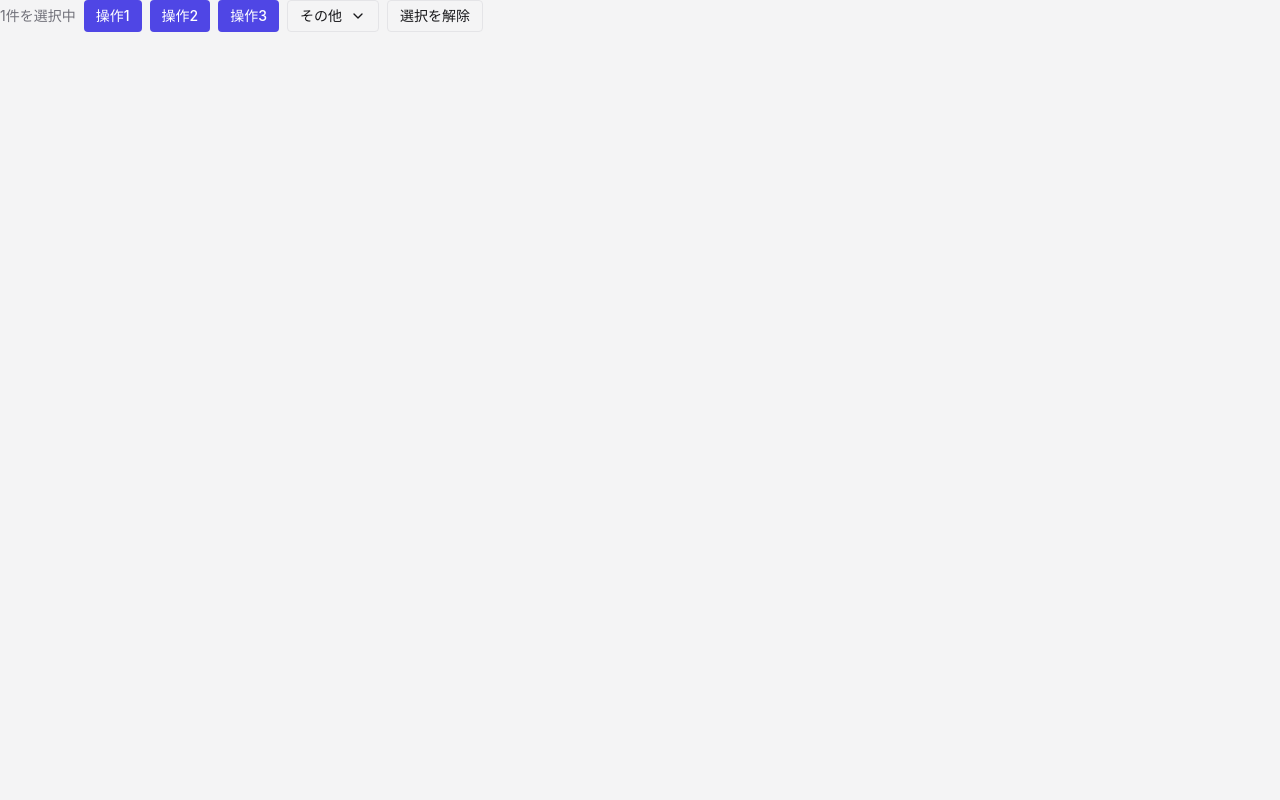
BulkActionBar › opens a controlled dialog from a menu action
This screenshot has width=1280, height=800.
Click the button "その他".
click(333, 16)  # box [287,0,379,32]
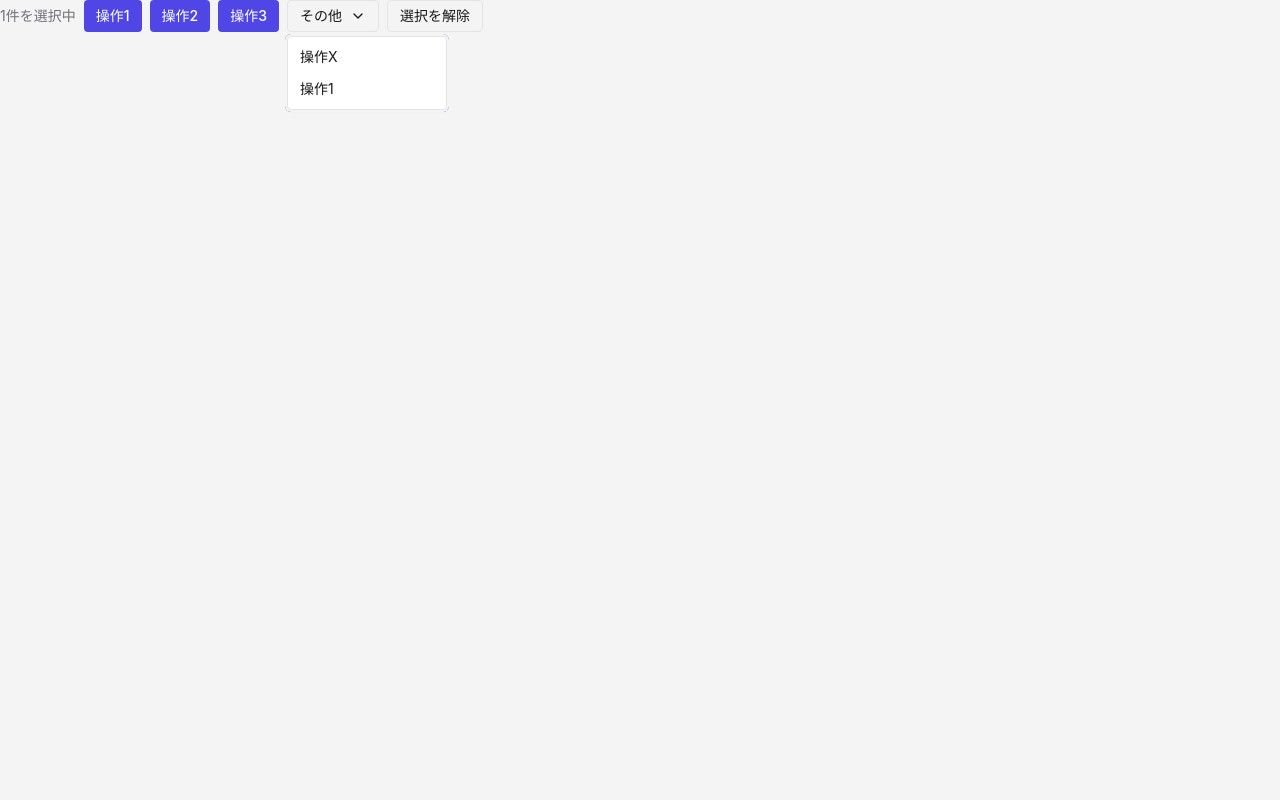
Click the menu item "操作X".
click(319, 56)  # box [300,48,338,65]
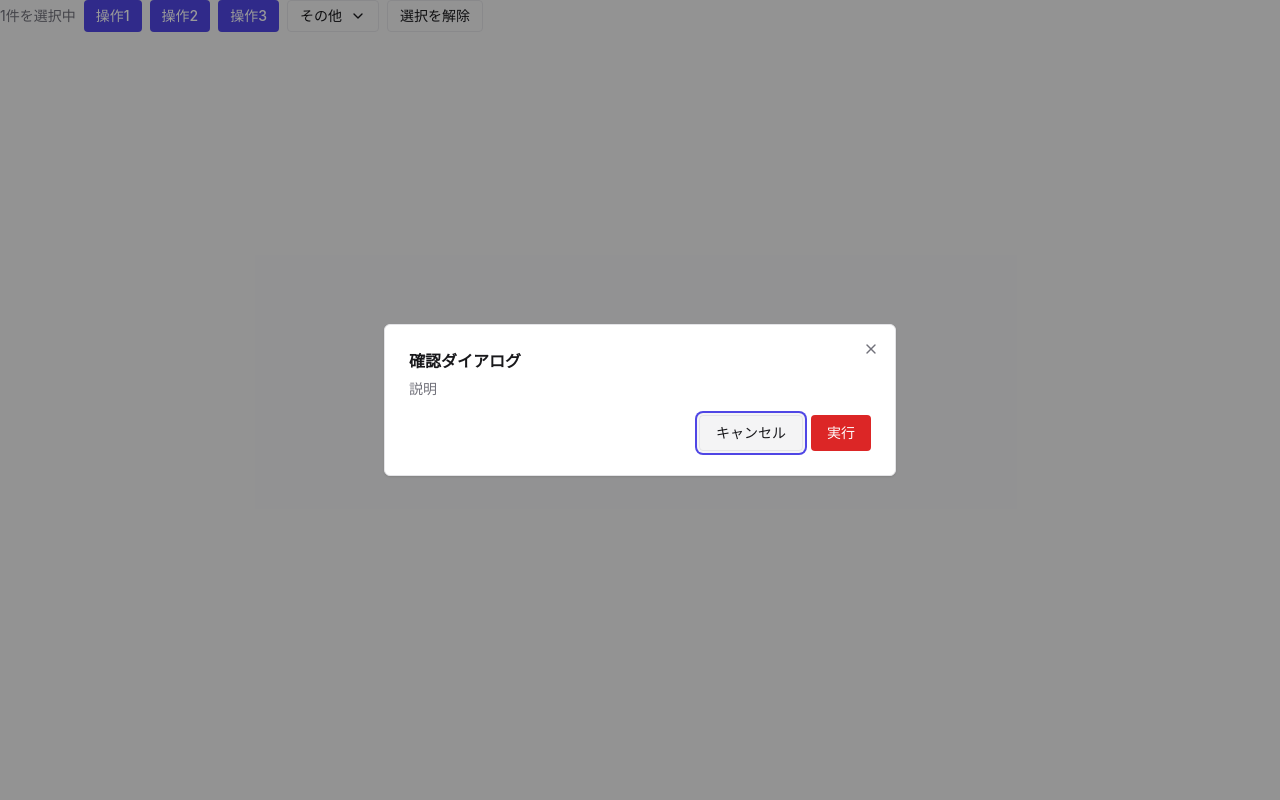
Expected: the heading "確認ダイアログ" is shown, [409,351,521,371]
